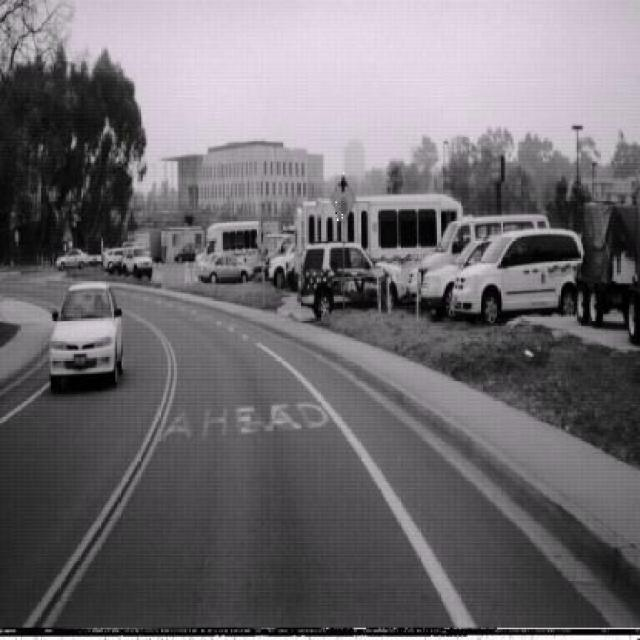stopAhead: (329, 172, 356, 225)
